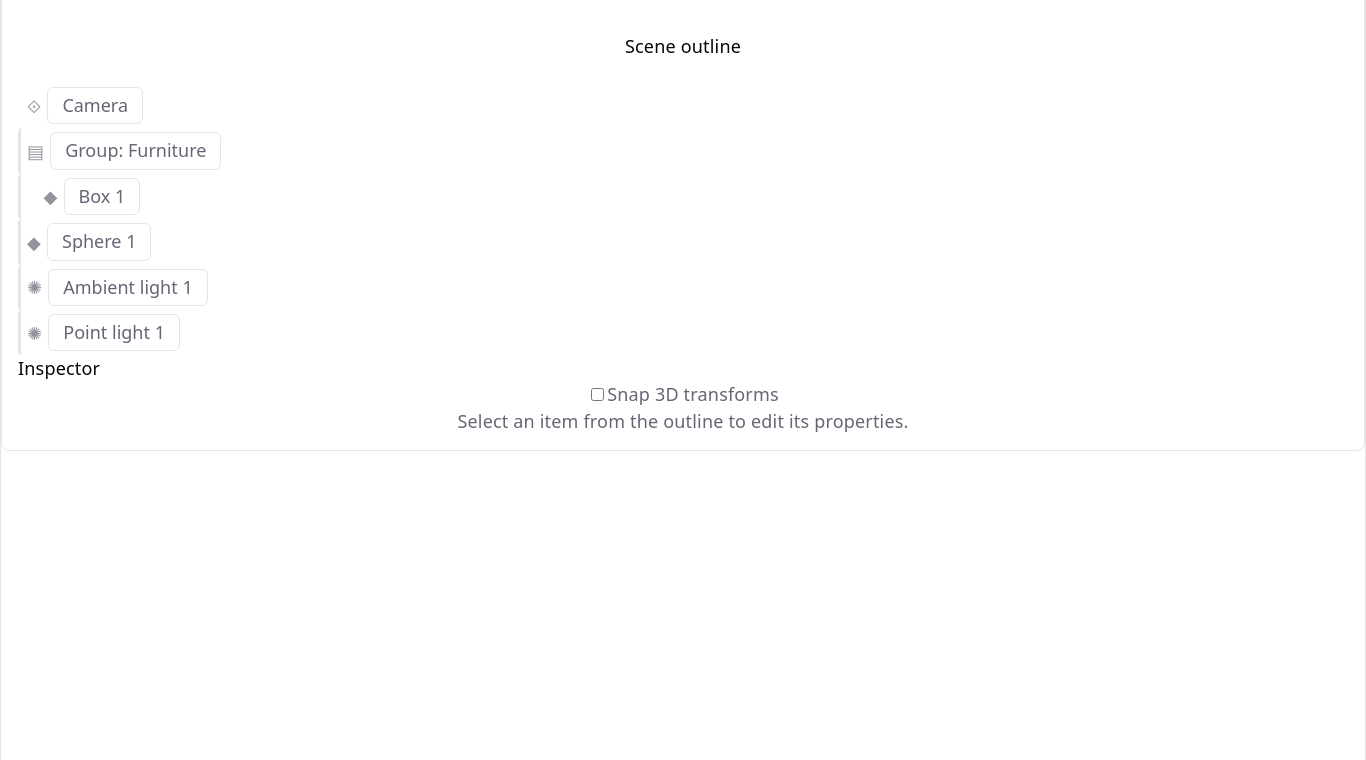
Scenario: Outline3DInspector › animation controls are contextual: only in the selected object inspector, extra fields only once a kind is chosen (#783)
The width and height of the screenshot is (1366, 760).
expect the field labelled "Animation kind" is not shown: met
Click the button "Box 1": x=102, y=196 [64,178,140,215]
(page scrolled)
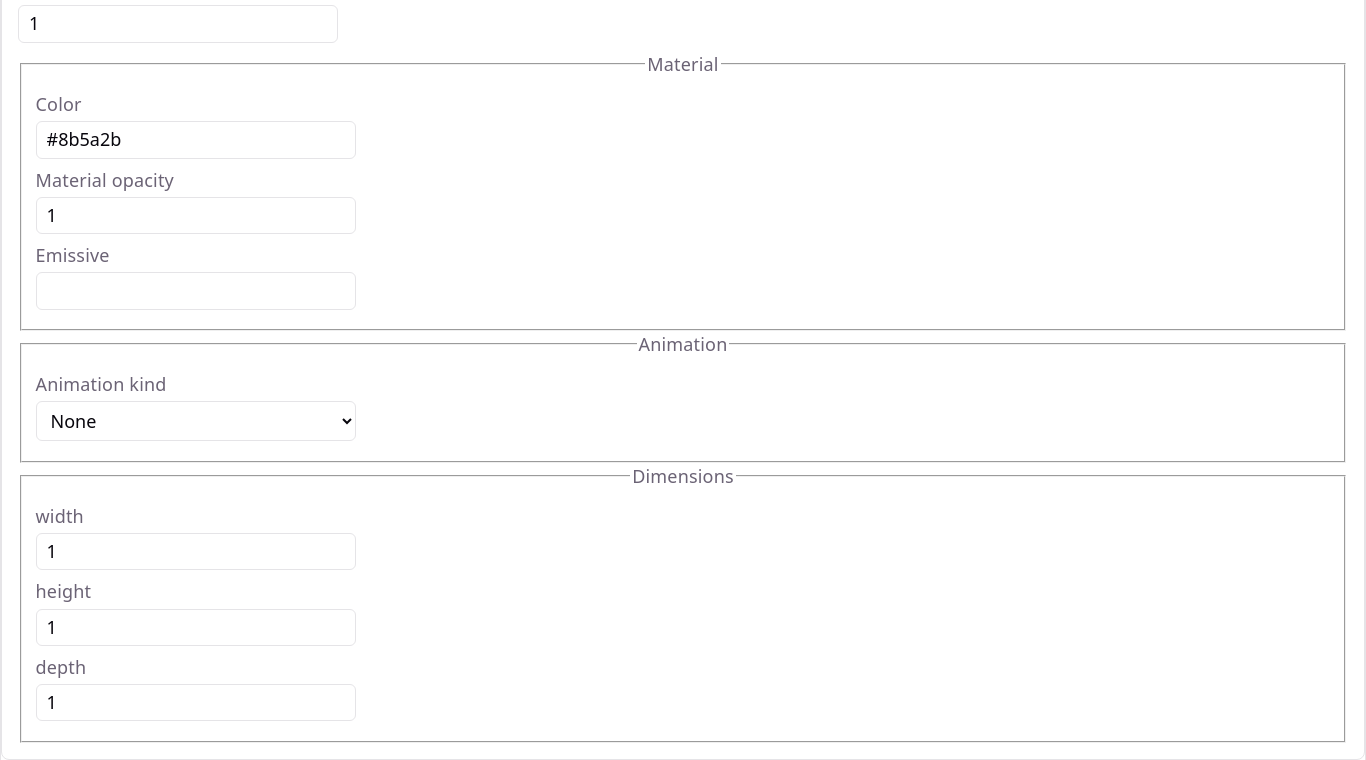
expect the field labelled "Animation axis" is not shown: met
expect the dropdown labelled "Animation kind" shows "None": met
Select "Oscillate" in the dropdown labelled "Animation kind": x=196, y=421 [36,401,356,441]
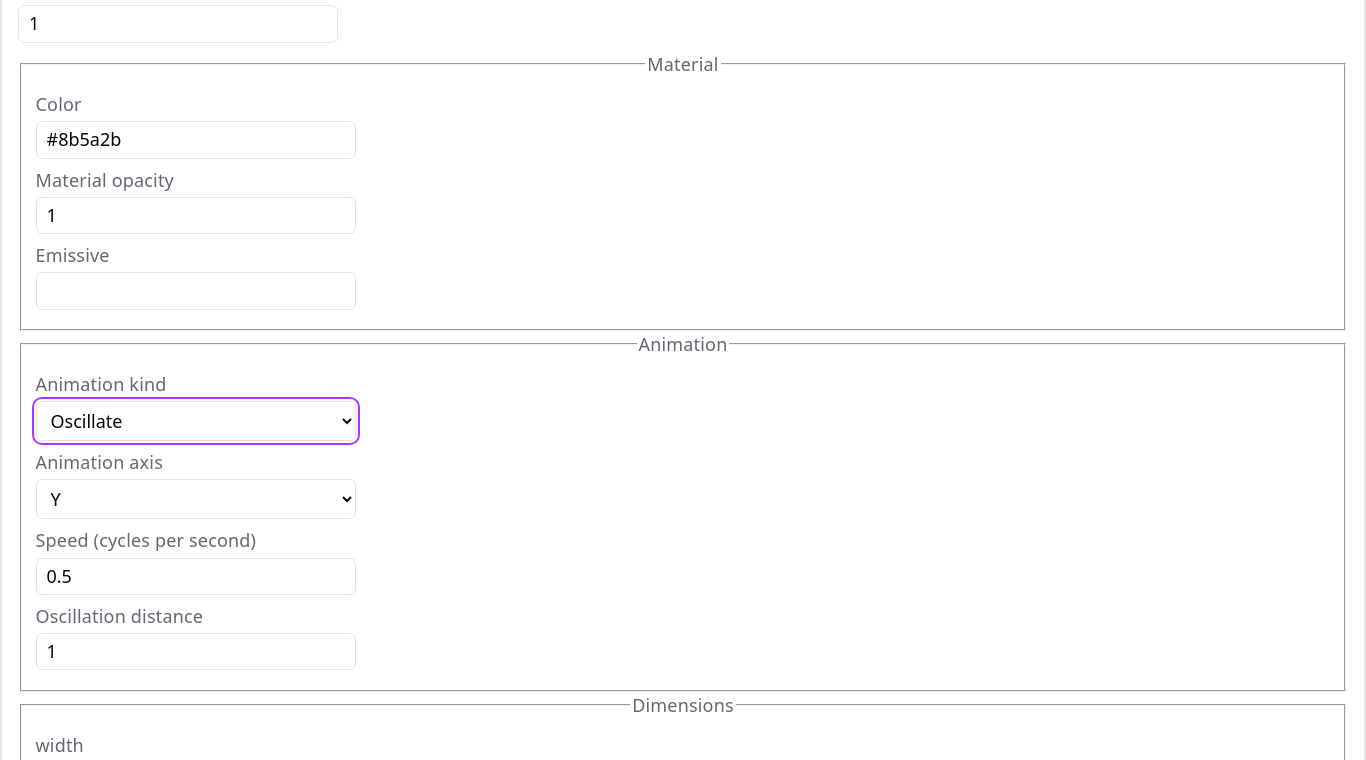
expect the dropdown labelled "Animation axis" shows "Y": met, box [36,479,356,519]
expect the number field labelled "Speed (cycles per second)" is shown: met, box [36,558,356,595]
expect the number field labelled "Oscillation distance" holds "1": met, box [36,633,356,670]
Select "Rotate" in the dropdown labelled "Animation kind": x=196, y=421 [36,401,356,441]
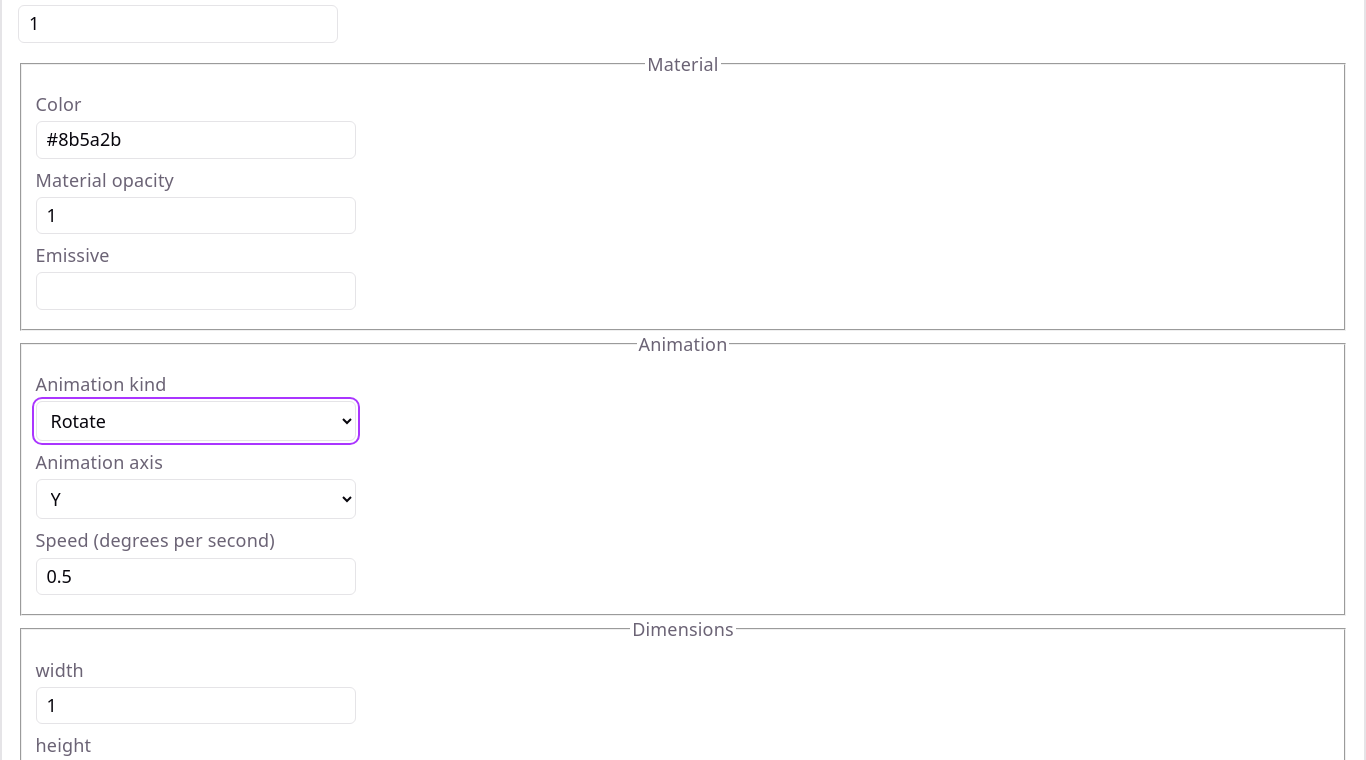
expect the number field labelled "Speed (degrees per second)" is shown: met, box [36,558,356,595]
expect the label labelled "Oscillation distance" is gone: met
Select "None" in the dropdown labelled "Animation kind": x=196, y=421 [36,401,356,441]
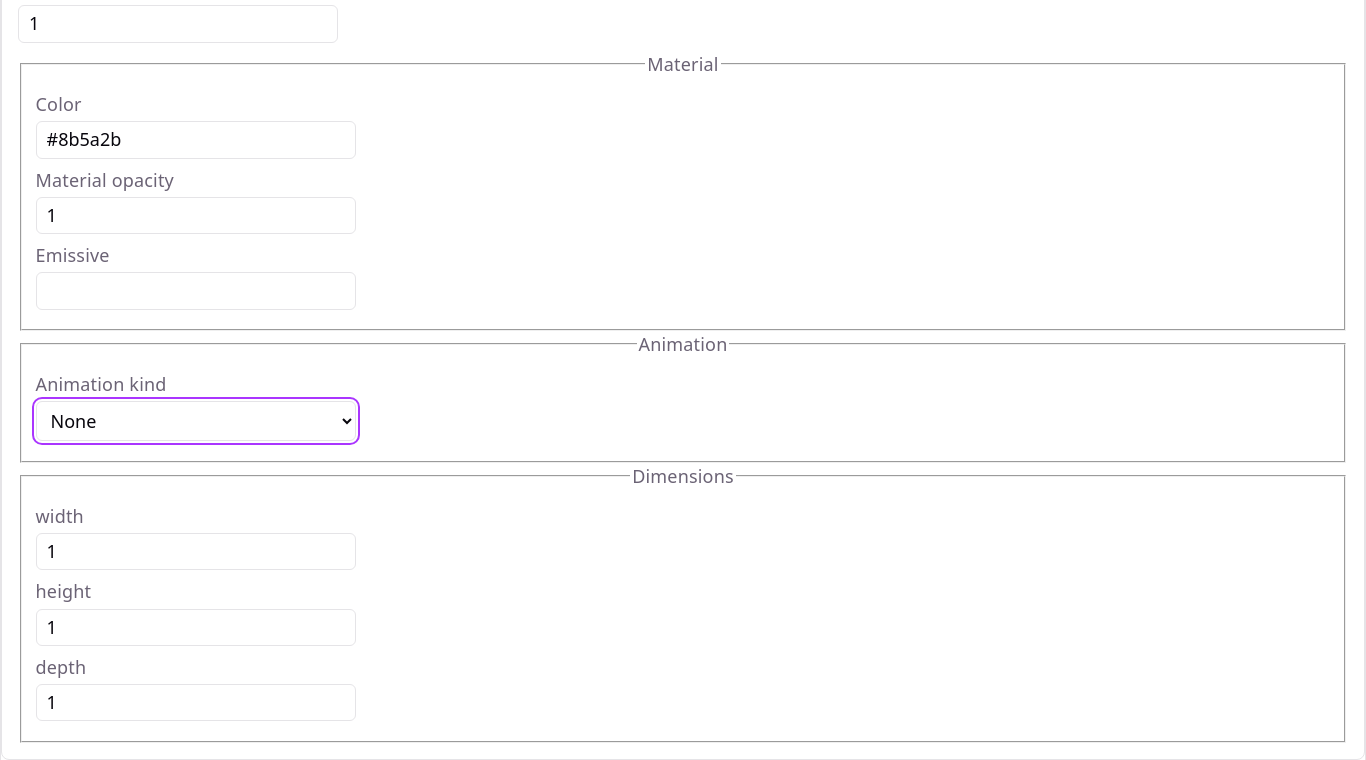
expect the label labelled "Animation axis" is gone: met
